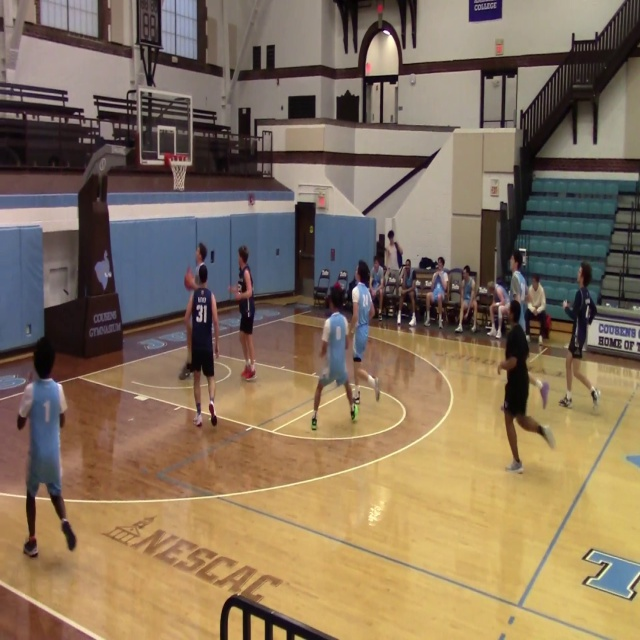Basketball: (184, 272, 198, 290)
